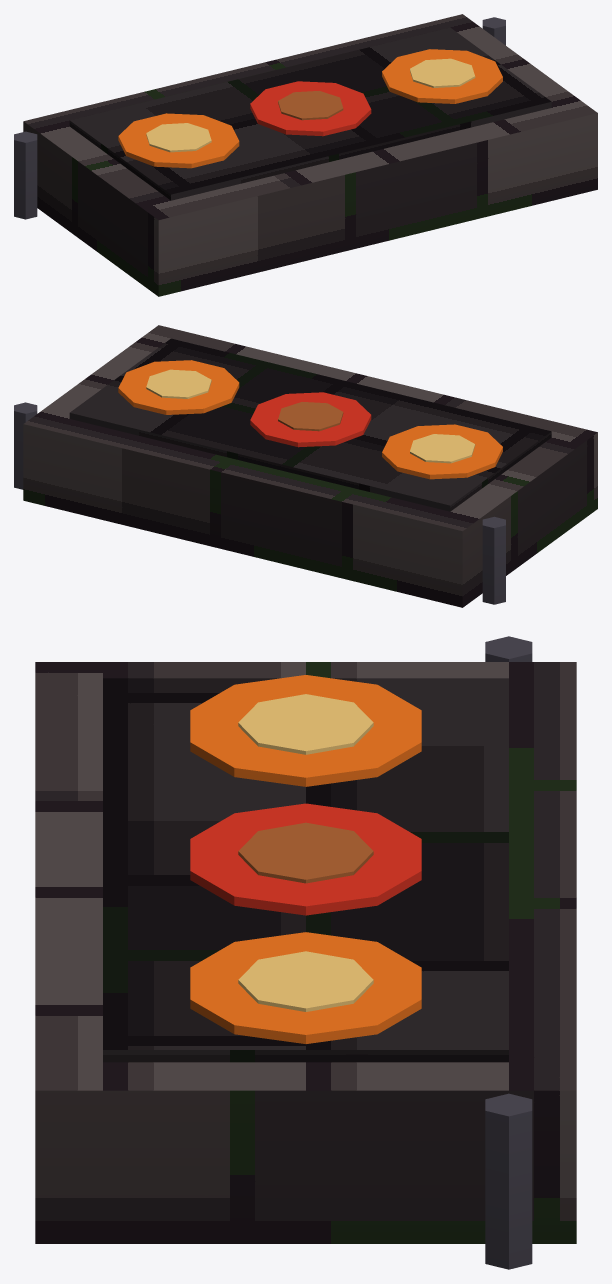
File: seal_cast_bed.glb
3 renders of one model, top to bottom at view 1: azimuth 30°, elevation 25°; view 2: azimuth 150°, elevation 25°; view 3: azimuth 270°, elevation 25°, orthographic. The views are drawn at different scales.
Visible parts, largest first — view 1: seal_cast_bed; view 2: seal_cast_bed; view 3: seal_cast_bed.
Part boxes in pixels (x1,y1,x2,y2): seal_cast_bed: (14, 14, 597, 296); seal_cast_bed: (14, 325, 597, 607); seal_cast_bed: (35, 636, 576, 1269).
Size of the model in its own units: 3.36 by 0.582 by 1.6.
3 materials, 1 textured.
